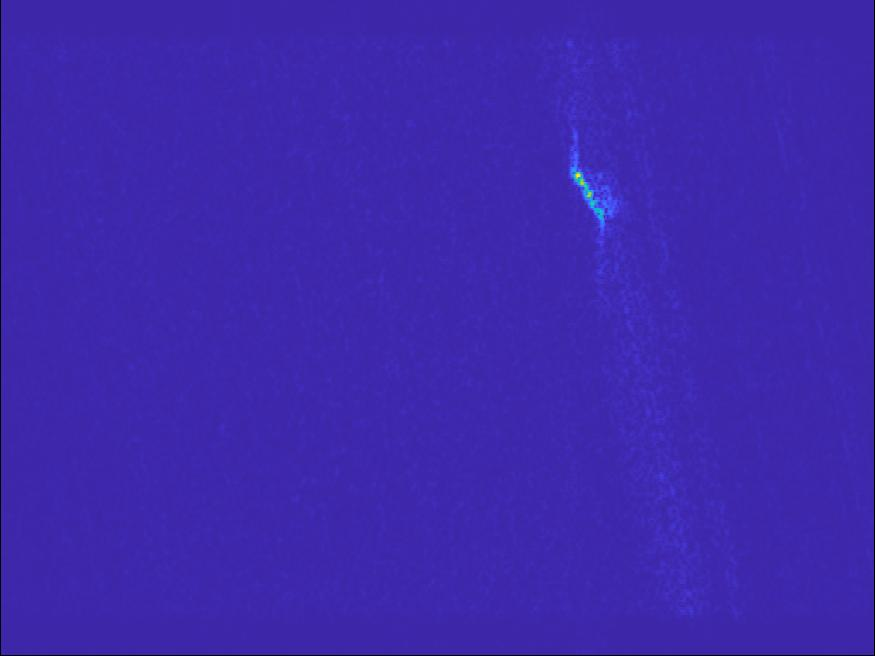Interference: (61, 164, 261, 322), (342, 226, 454, 282)
